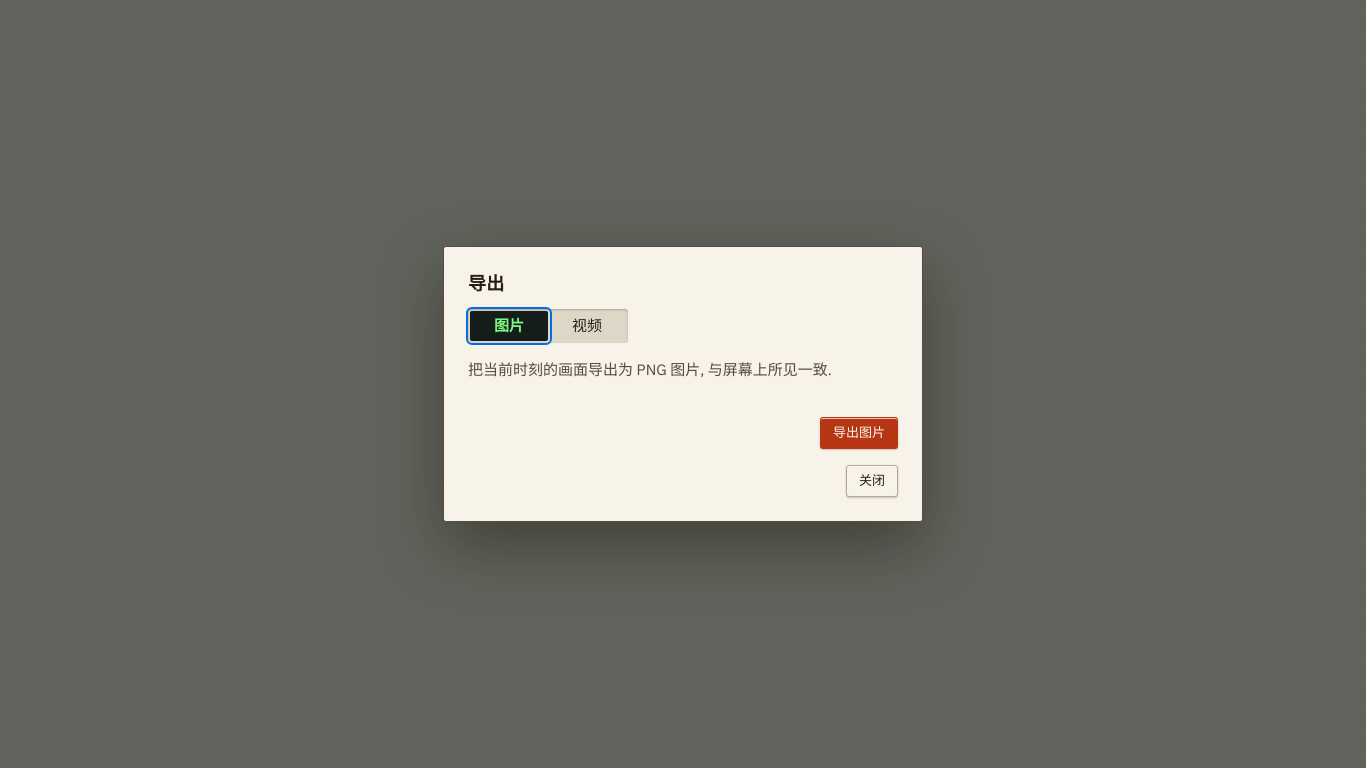
Test: ExportDialog › blocks an output longer than sixty seconds and says why
Click the tab "视频" at [587, 326], box [548, 311, 626, 341]
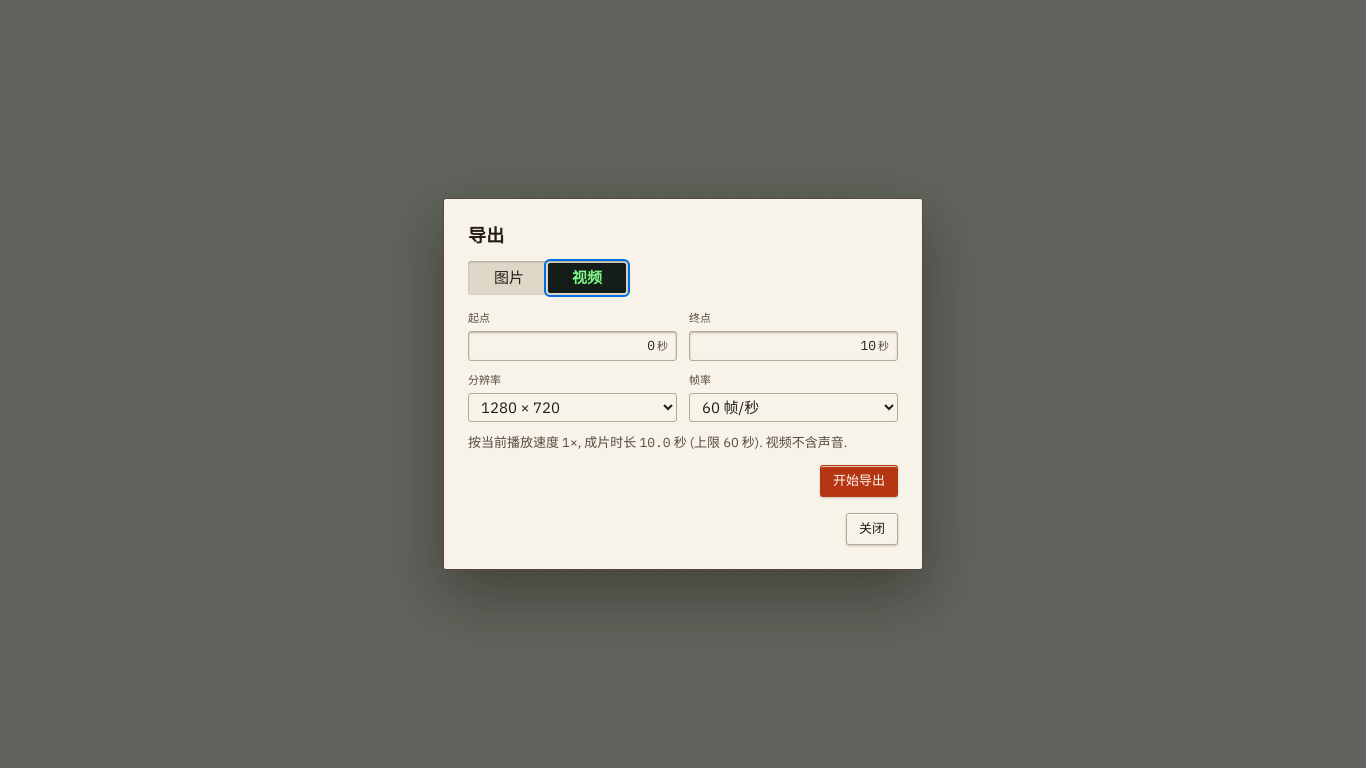
Expected: the panel is shown, [468, 311, 898, 497]
Replace the text in the field labelled "终点" with "90" at [787, 346], box [698, 334, 876, 358]
Then press Enter
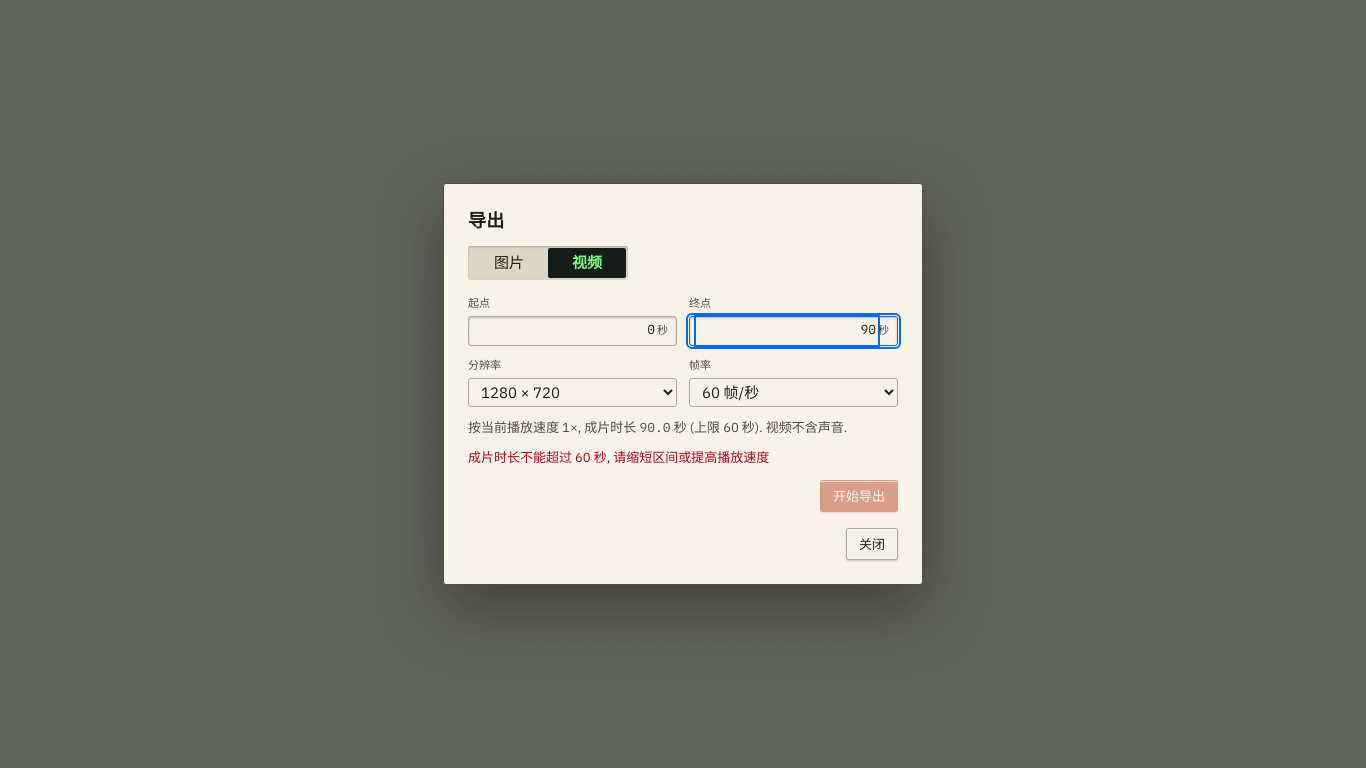
Expected: the button "开始导出" is disabled, [820, 480, 898, 512]
Expected: the message "成片时长不能超过 60 秒, 请缩短区间或提高播放速度" is shown, [468, 449, 769, 466]
